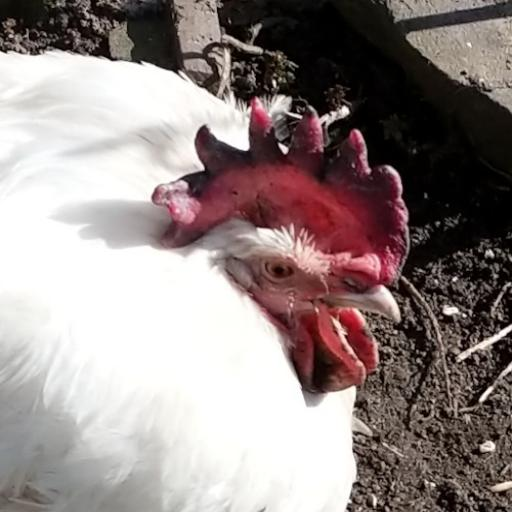disease: (328, 298, 380, 377), (201, 124, 286, 168), (376, 174, 409, 285), (299, 119, 361, 174), (151, 164, 214, 212), (223, 177, 250, 209)
